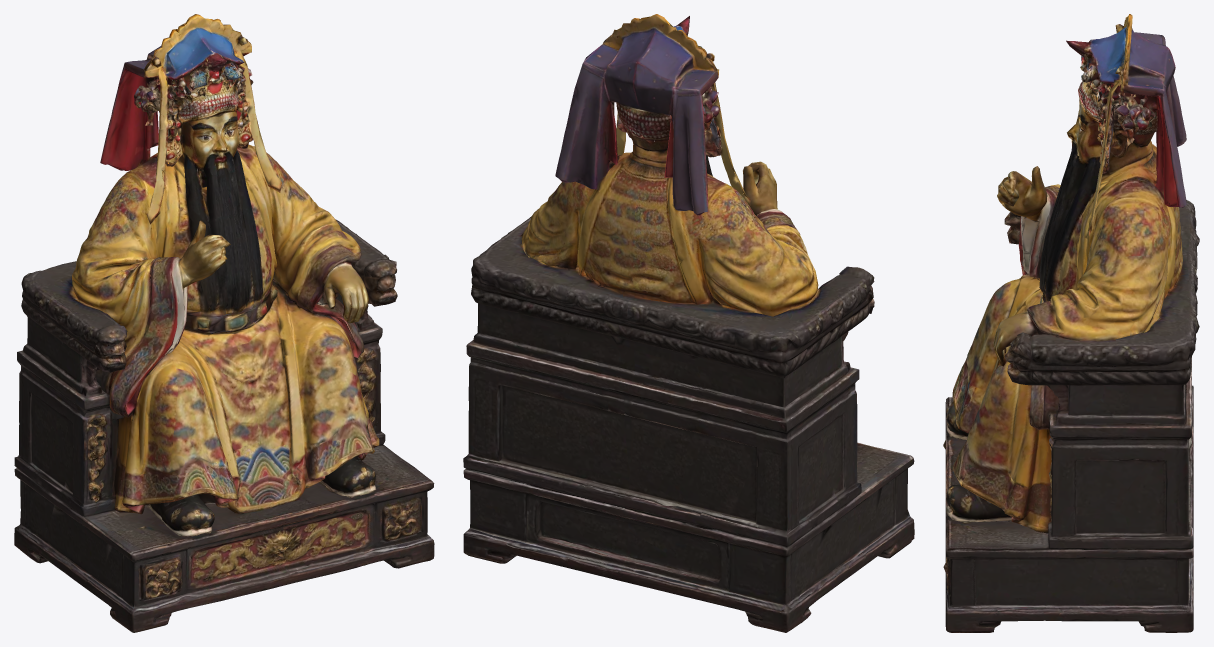
Rendered from 福州城隍.glb.
3 renders of one model, left to right at view 1: azimuth 30°, elevation 25°; view 2: azimuth 150°, elevation 25°; view 3: azimuth 270°, elevation 25°, orthographic. The views are drawn at different scales.
Parts seen in each view (by area): view 1: tripo_node_2e9460ac-178f-4c0b-86d5-a8416191edc0; view 2: tripo_node_2e9460ac-178f-4c0b-86d5-a8416191edc0; view 3: tripo_node_2e9460ac-178f-4c0b-86d5-a8416191edc0.
Boxes of the visible parts, left/top/right/bottom form: tripo_node_2e9460ac-178f-4c0b-86d5-a8416191edc0: left=14, top=14, right=434, bottom=632; tripo_node_2e9460ac-178f-4c0b-86d5-a8416191edc0: left=463, top=14, right=914, bottom=632; tripo_node_2e9460ac-178f-4c0b-86d5-a8416191edc0: left=943, top=14, right=1199, bottom=632.
Bounding box in the file's own units: 0.6061 × 0.9778 × 0.42.
Materials: 1 (1 with a texture image).
